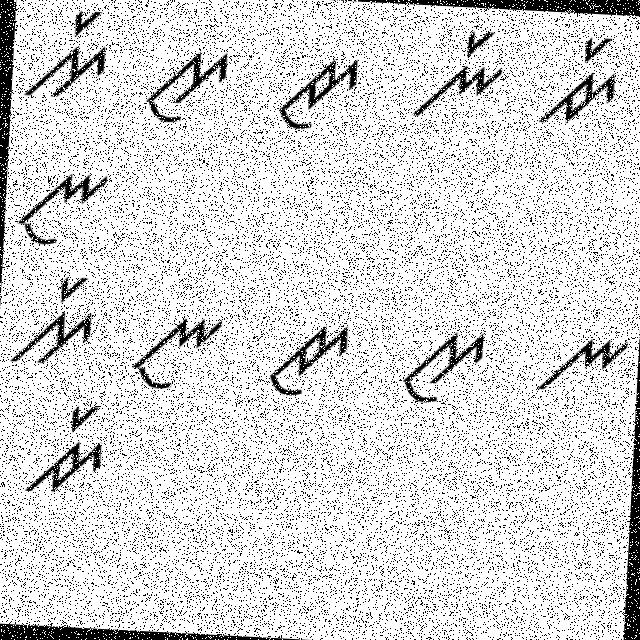jar: (520, 33, 629, 134), (18, 390, 113, 502)
jaw: (260, 309, 354, 404), (274, 48, 362, 135)
nya: (532, 321, 631, 398)
nyar: (409, 24, 508, 124)
nyaw: (125, 305, 225, 403), (13, 154, 112, 252)
sar: (5, 270, 104, 374), (23, 4, 118, 104)
saw: (396, 324, 494, 416), (142, 36, 232, 130)
